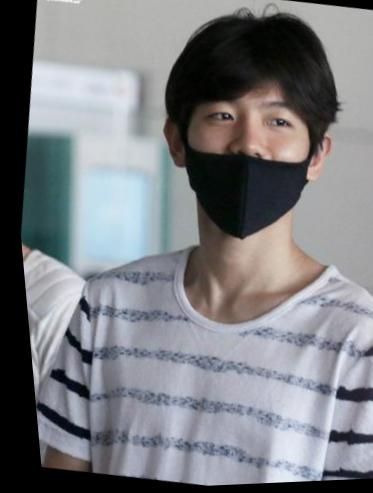WRONG: (166, 87, 321, 245)
